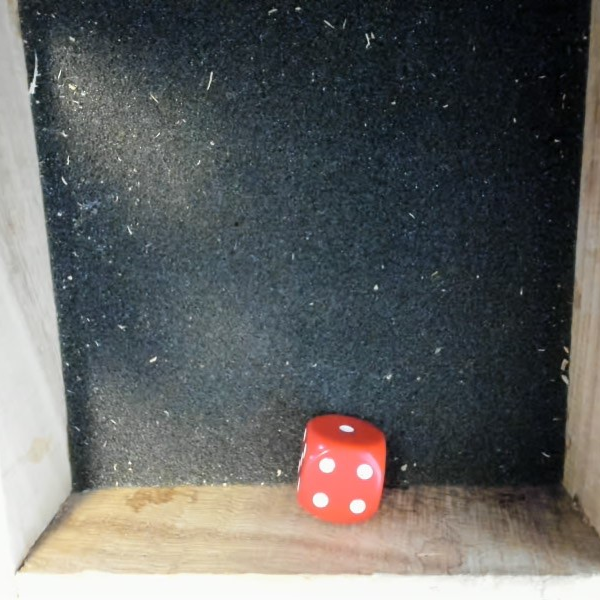red_die_pip4: (287, 409, 397, 530)
